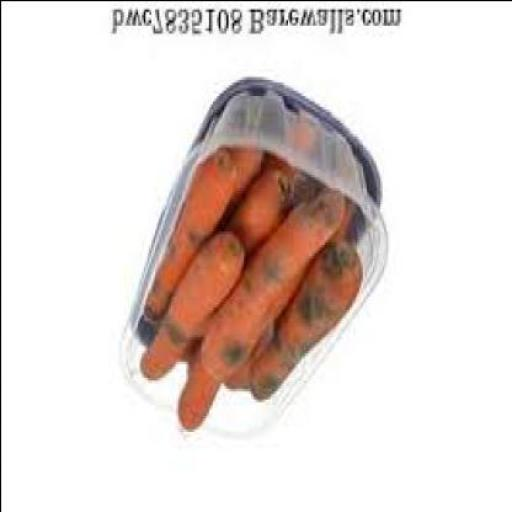biodegradable: (198, 209, 318, 382), (244, 236, 360, 400), (140, 151, 233, 325), (136, 236, 238, 382), (220, 166, 288, 260), (260, 128, 318, 217), (219, 316, 273, 390), (175, 350, 220, 433), (221, 146, 260, 226), (310, 190, 342, 249), (331, 203, 352, 244), (132, 314, 148, 349)
plastic: (117, 81, 385, 433)
